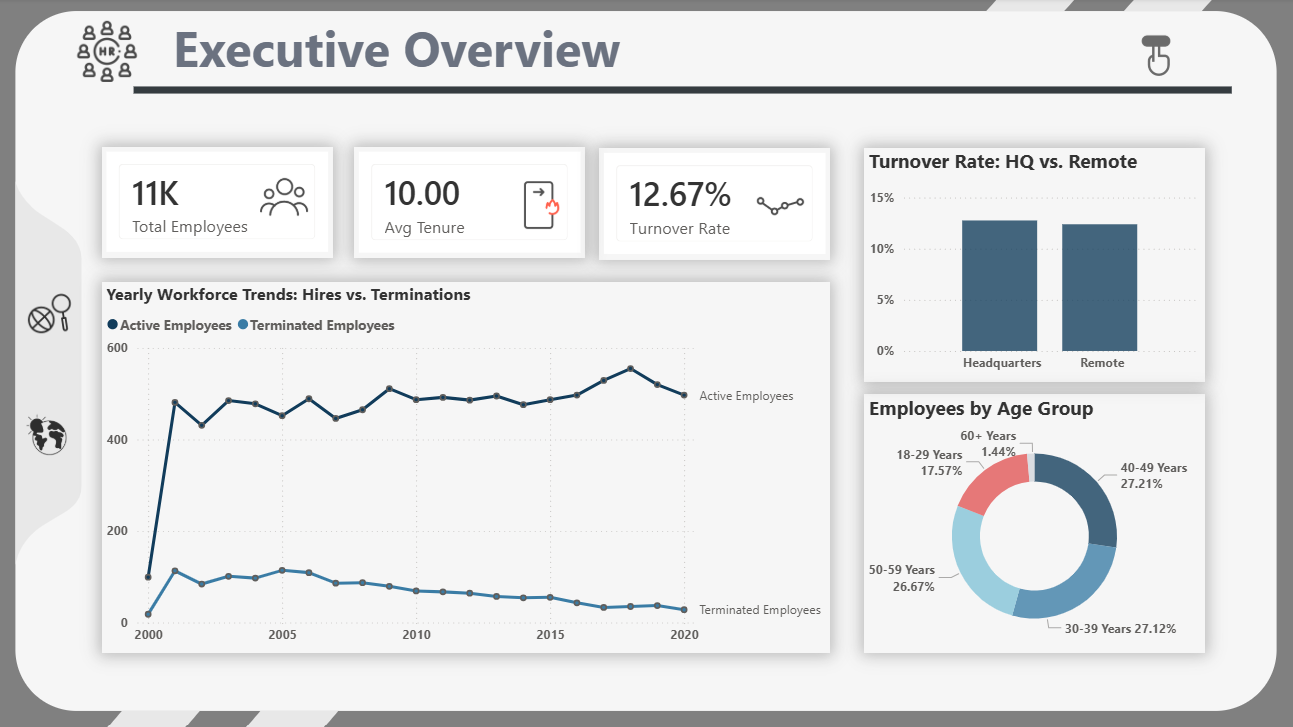

The page's visual inventory and layout, read from the dashboard file:
{"tool":"powerbi","page":{"name":"EXECUTIVE OVERVIEW","canvas":[1280,720],"ordinal":1},"visuals":[{"type":"textbox","box":[170,11.4,460,82.9],"z":0},{"type":"slicer","fields":{"Values":["hr.gender"]},"box":[768,86.3,203.1,69.6],"z":0,"group":"g1"},{"type":"cardVisual","fields":{"Data":["Measures_.Total Employees"]},"box":[105.5,146.1,227,108.6],"z":0,"group":"g2"},{"type":"slicer","fields":{"Values":["hr.location"]},"box":[474.4,86.3,203.1,69.6],"z":1000,"group":"g1"},{"type":"cardVisual","fields":{"Data":["Measures_.Avg Tenure"]},"box":[353.7,146,227.3,109.2],"z":1000,"group":"g2"},{"type":"lineChart","title":"Yearly Workforce Trends: Hires vs. Terminations","fields":{"Y":["Measures_.Avtice Employees","Measures_.Terminated Employees"],"Category":["calender.Year"]},"box":[105.5,278.5,715.3,364.4],"z":1000},{"type":"image","box":[81.4,18.6,60,68.6],"z":2000},{"type":"slicer","fields":{"Values":["hr.department"]},"box":[185,86.3,203.1,69.6],"z":2000,"group":"g1"},{"type":"cardVisual","fields":{"Data":["Measures_.Turnover Rate"]},"box":[593.2,147.2,227.3,109.2],"z":2000,"group":"g2"},{"type":"image","box":[1101.8,28.2,77.3,58.9],"z":3000},{"type":"image","box":[25.7,287.1,55.7,55.7],"z":4000},{"type":"image","box":[21.4,397.1,67.1,62.9],"z":5000},{"type":"image","box":[254.5,164.4,61.3,71.2],"z":6000,"group":"g2"},{"type":"donutChart","title":"Employees by Age Group","fields":{"Category":["hr.Age Group"],"Y":["Measures_.Active Employees"]},"box":[854,389,335,254],"z":6000},{"type":"group","id":"g1","title":"Group 1","box":[185,86.3,786.1,69.6],"z":7000},{"type":"image","box":[506.3,166.9,61.3,72.4],"z":7000,"group":"g2"},{"type":"image","box":[912.6,19,83.1,84.8],"z":8000},{"type":"image","box":[741.4,166.9,61.3,72.4],"z":8000,"group":"g2"},{"type":"group","id":"g2","title":"Group 2","box":[105.5,146,715.3,110.4],"z":9000},{"type":"clusteredColumnChart","title":"Turnover Rate: HQ vs. Remote","fields":{"Category":["hr.location"],"Y":["Measures_.Turnover Rate"]},"box":[854,147.2,335,229.4],"z":10000}]}

Visuals, with their boxes in screenshot pixels (x1, y1, x2, y2), scaled from the page's 1280x720 canvas onto the 1293x727 screenshot:
textbox: locate(172, 12, 636, 95)
slicer - hr.gender: locate(776, 87, 981, 157)
cardVisual - Measures_.Total Employees: locate(107, 148, 336, 257)
slicer - hr.location: locate(479, 87, 684, 157)
cardVisual - Measures_.Avg Tenure: locate(357, 147, 587, 258)
"Yearly Workforce Trends: Hires vs. Terminations" lineChart: locate(107, 281, 829, 649)
image: locate(82, 19, 143, 88)
slicer - hr.department: locate(187, 87, 392, 157)
cardVisual - Measures_.Turnover Rate: locate(599, 149, 829, 259)
image: locate(1113, 28, 1191, 88)
image: locate(26, 290, 82, 346)
image: locate(22, 401, 89, 464)
image: locate(257, 166, 319, 238)
"Employees by Age Group" donutChart: locate(863, 393, 1201, 649)
"Group 1" group: locate(187, 87, 981, 157)
image: locate(511, 169, 573, 242)
image: locate(922, 19, 1006, 105)
image: locate(749, 169, 811, 242)
"Group 2" group: locate(107, 147, 829, 259)
"Turnover Rate: HQ vs. Remote" clusteredColumnChart: locate(863, 149, 1201, 380)
